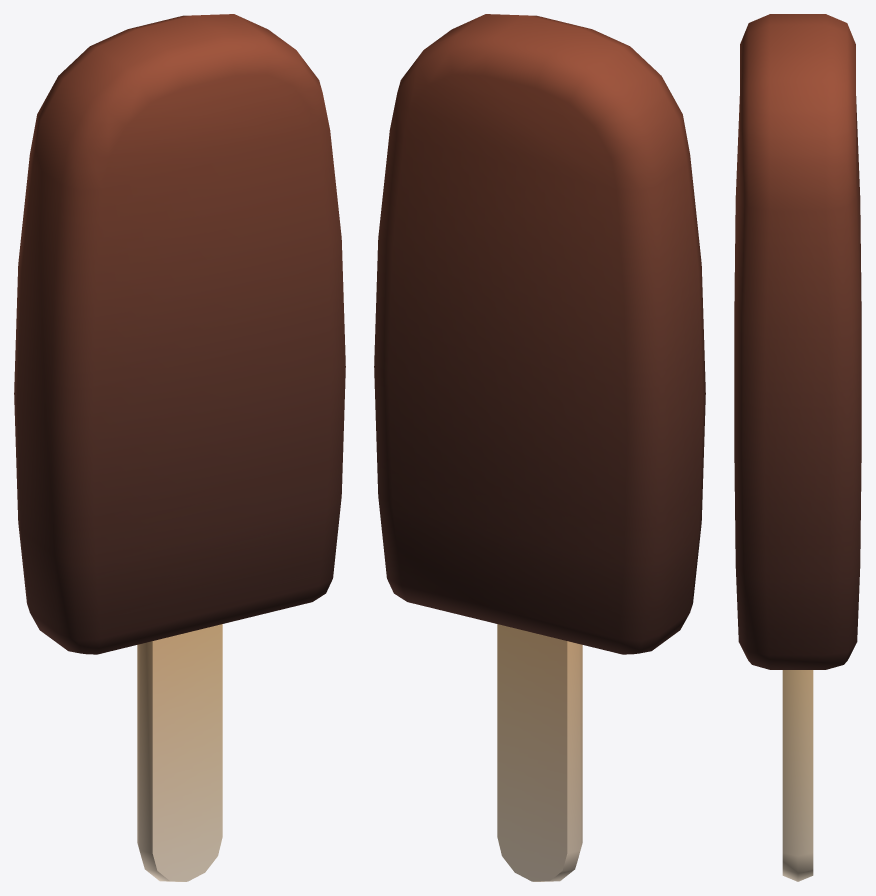
File: ice_cream_003.fbx
The picture shows the model from 3 angles, left to right: view 1: azimuth 30°, elevation 25°; view 2: azimuth 150°, elevation 25°; view 3: azimuth 270°, elevation 25°; orthographic projection.
Parts seen in each view (by area): view 1: ice_cream_003; view 2: ice_cream_003; view 3: ice_cream_003.
Boxes of the visible parts, <box> form: ice_cream_003: <box>14,14,345,881</box>; ice_cream_003: <box>374,14,705,881</box>; ice_cream_003: <box>734,14,861,881</box>.
Size of the model in its own units: 6.63 by 2.54 by 18.43.
